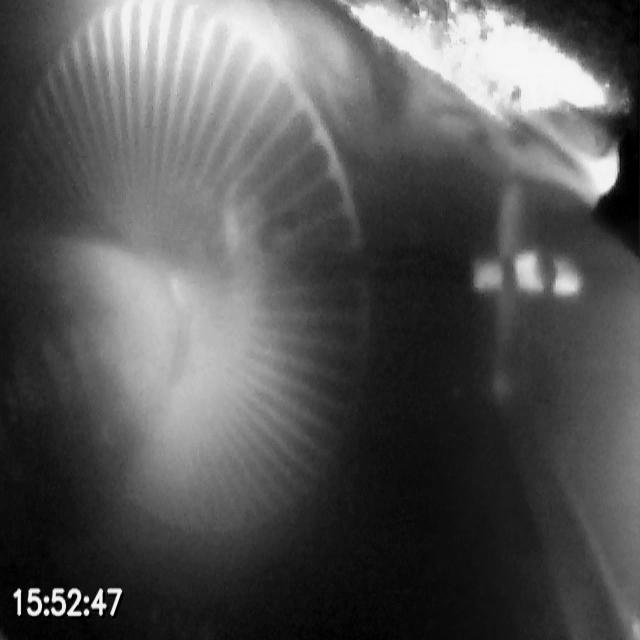white-dots: (471, 247, 583, 299)
